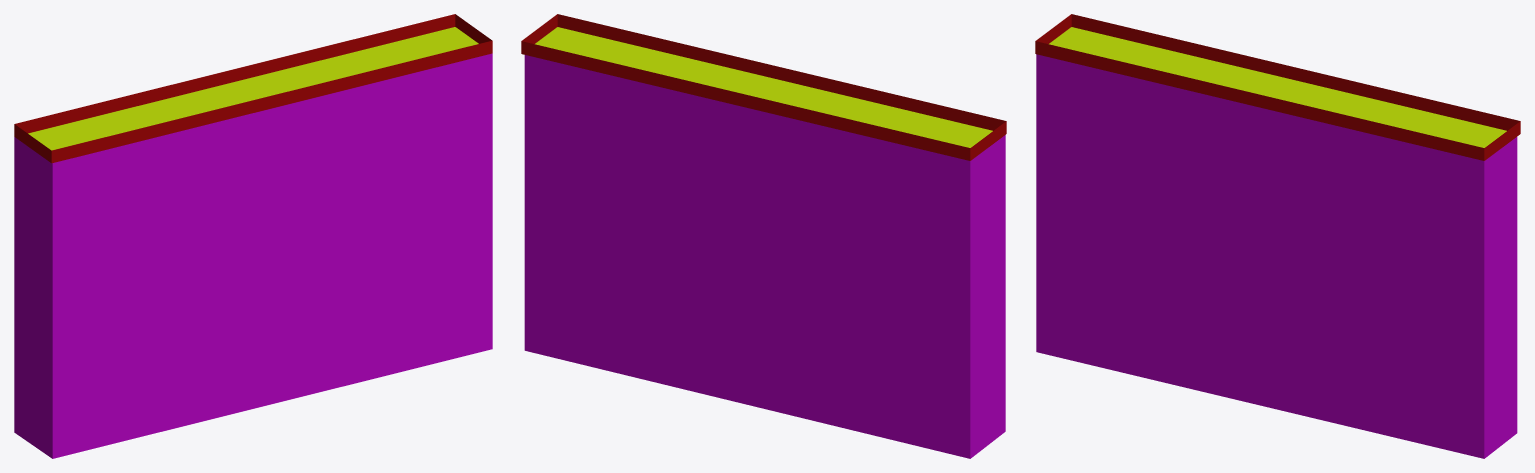
3 renders of one model, left to right at view 1: azimuth 30°, elevation 25°; view 2: azimuth 150°, elevation 25°; view 3: azimuth 330°, elevation 25°, orthographic.
Parts seen in each view (by area): view 1: sc_81; view 2: sc_81; view 3: sc_81.
Boxes of the visible parts, x1=… form: sc_81: x1=14, y1=14, x2=492, y2=458; sc_81: x1=521, y1=14, x2=1006, y2=458; sc_81: x1=1035, y1=14, x2=1520, y2=458.
Size of the model in its own units: 12.66 by 8.41 by 1.93.
